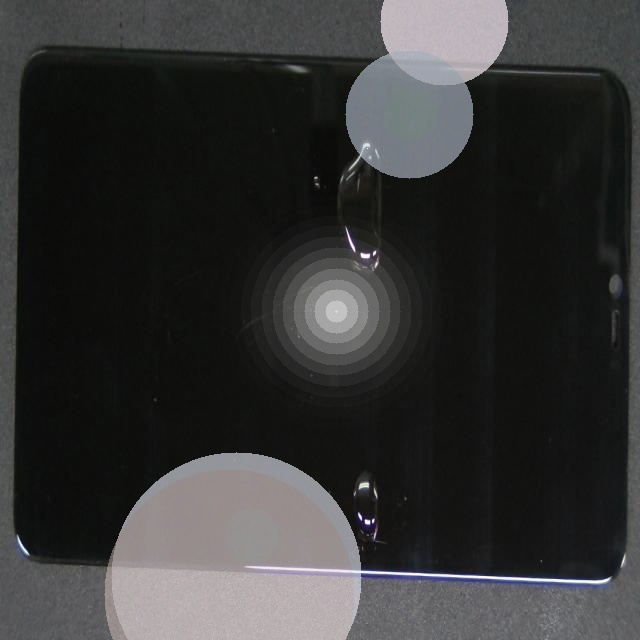oil: (162, 224, 533, 640), (166, 33, 502, 283)
